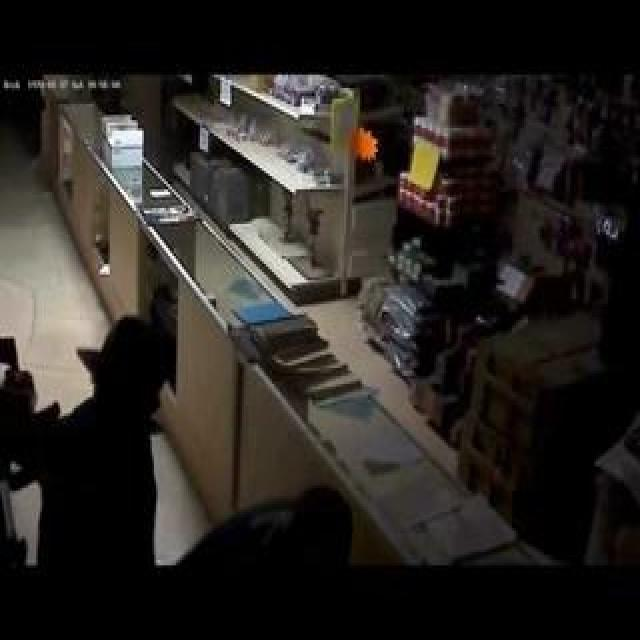thief: (89, 314, 161, 446)
